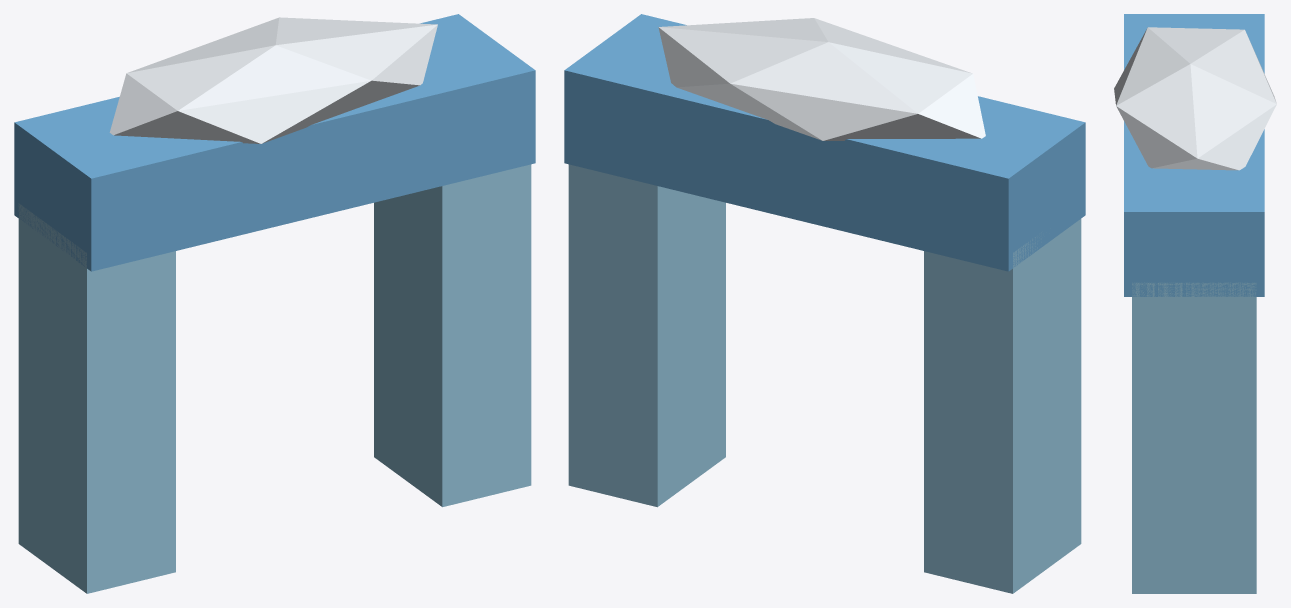
Rendered from ice_arch.glb.
The picture shows the model from 3 angles, left to right: view 1: azimuth 30°, elevation 25°; view 2: azimuth 150°, elevation 25°; view 3: azimuth 270°, elevation 25°; orthographic projection. The views are drawn at different scales.
Parts seen in each view (by area): view 1: ice_arch; view 2: ice_arch; view 3: ice_arch.
Part boxes in pixels (x1,y1,x2,y2): ice_arch: (14,14,535,593); ice_arch: (564,14,1085,593); ice_arch: (1114,14,1276,593).
Size of the model in its own units: 3 by 3.04 by 1.04.
